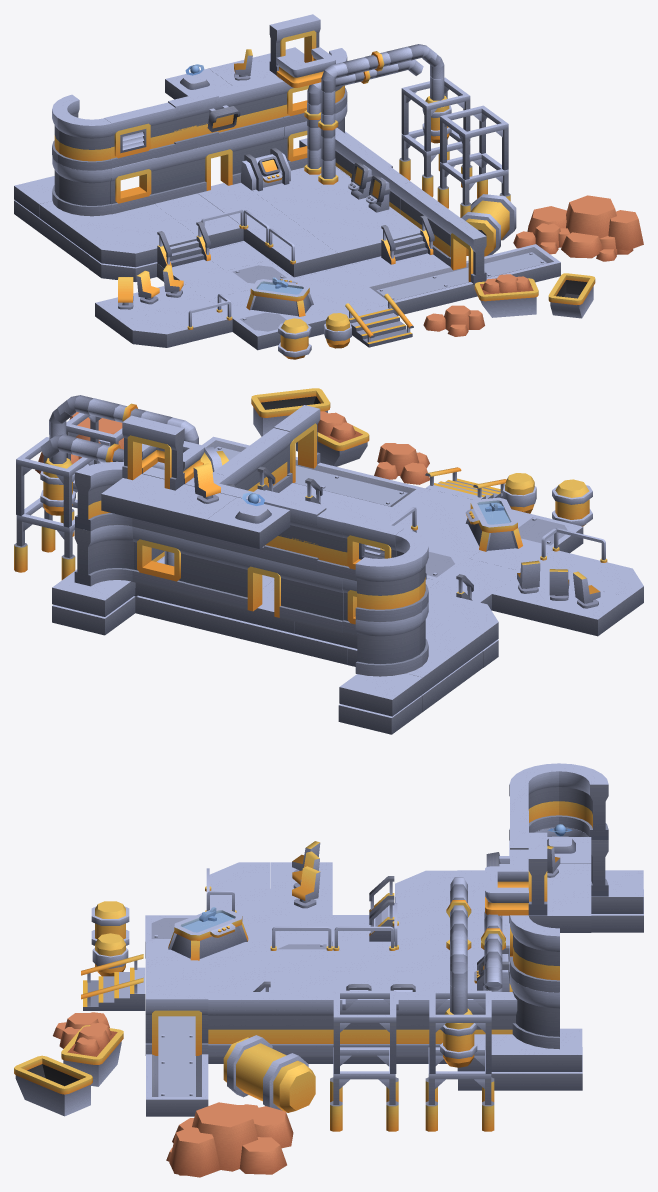
Rendered from space-station.glb.
3 renders of one model, top to bottom at view 1: azimuth 30°, elevation 25°; view 2: azimuth 150°, elevation 25°; view 3: azimuth 270°, elevation 25°, orthographic. The views are drawn at different scales.
Visible parts, largest first — view 1: rocks.002, wall-corner-round-banner, wall-corner-round, wall-banner.007, skip-rocks, container-flat-open, wall.001, floor.030, floor-corner, floor-corner.002, table-display, wall-window (+76 smaller); view 2: wall-corner-round-banner.002, wall-corner-round.002, wall-corner-round.001, wall.001, wall-door-wide.001, wall.002, wall-banner.009, floor.054, wall-window.002, floor.057, wall-corner-round-banner.001, floor.022 (+69 smaller); view 3: rocks.002, container-flat-open, wall-banner.001, skip, wall-banner, wall-corner-round-banner.001, wall-corner-round-banner.002, table-display, wall-door-wide, wall-corner-round.001, skip-rocks, floor-panel-end.001 (+55 smaller).
Part boxes in pixels (x1=…): rocks.002: x1=527, y1=195, x2=643, y2=258; wall-corner-round-banner: x1=57, y1=114, x2=111, y2=170; wall-corner-round: x1=57, y1=163, x2=111, y2=216; wall-banner.007: x1=234, y1=76, x2=283, y2=137; skip-rocks: x1=474, y1=274, x2=538, y2=317; container-flat-open: x1=461, y1=194, x2=516, y2=256; wall.001: x1=154, y1=148, x2=198, y2=203; floor.030: x1=269, y1=235, x2=337, y2=277; floor-corner: x1=120, y1=310, x2=188, y2=347; floor-corner.002: x1=89, y1=230, x2=157, y2=267; table-display: x1=246, y1=279, x2=313, y2=316; wall-window: x1=110, y1=158, x2=155, y2=214; wall-corner-round-banner.002: x1=355, y1=552, x2=421, y2=621; wall-corner-round.002: x1=355, y1=611, x2=422, y2=676; wall-corner-round.001: x1=74, y1=525, x2=133, y2=586; wall.001: x1=289, y1=565, x2=343, y2=632; wall-door-wide.001: x1=122, y1=415, x2=184, y2=490; wall.002: x1=184, y1=539, x2=238, y2=607; wall-banner.009: x1=289, y1=509, x2=350, y2=577; floor.054: x1=339, y1=673, x2=422, y2=716; wall-window.002: x1=132, y1=526, x2=185, y2=594; floor.057: x1=206, y1=497, x2=290, y2=548; wall-corner-round-banner.001: x1=75, y1=461, x2=132, y2=531; floor.022: x1=545, y1=585, x2=628, y2=636; rocks.002: x1=169, y1=1102, x2=293, y2=1177; container-flat-open: x1=223, y1=1035, x2=315, y2=1112; wall-banner.001: x1=270, y1=992, x2=332, y2=1056; skip: x1=14, y1=1055, x2=92, y2=1116; wall-banner: x1=207, y1=992, x2=269, y2=1056; wall-corner-round-banner.001: x1=510, y1=915, x2=559, y2=992; wall-corner-round-banner.002: x1=558, y1=763, x2=608, y2=839; table-display: x1=168, y1=907, x2=248, y2=960; wall-door-wide: x1=145, y1=991, x2=208, y2=1055; wall-corner-round.001: x1=510, y1=973, x2=559, y2=1049; skip-rocks: x1=61, y1=1022, x2=123, y2=1086; floor-panel-end.001: x1=146, y1=1073, x2=208, y2=1116.
Bounding box in the file's own units: 11.29 × 3.74 × 10.08.
Materials: 46 (46 with a texture image).
